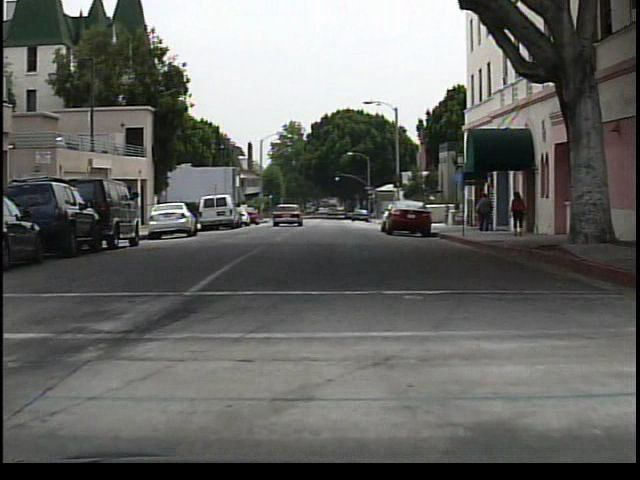person: (508, 185, 530, 237), (473, 191, 494, 234)
